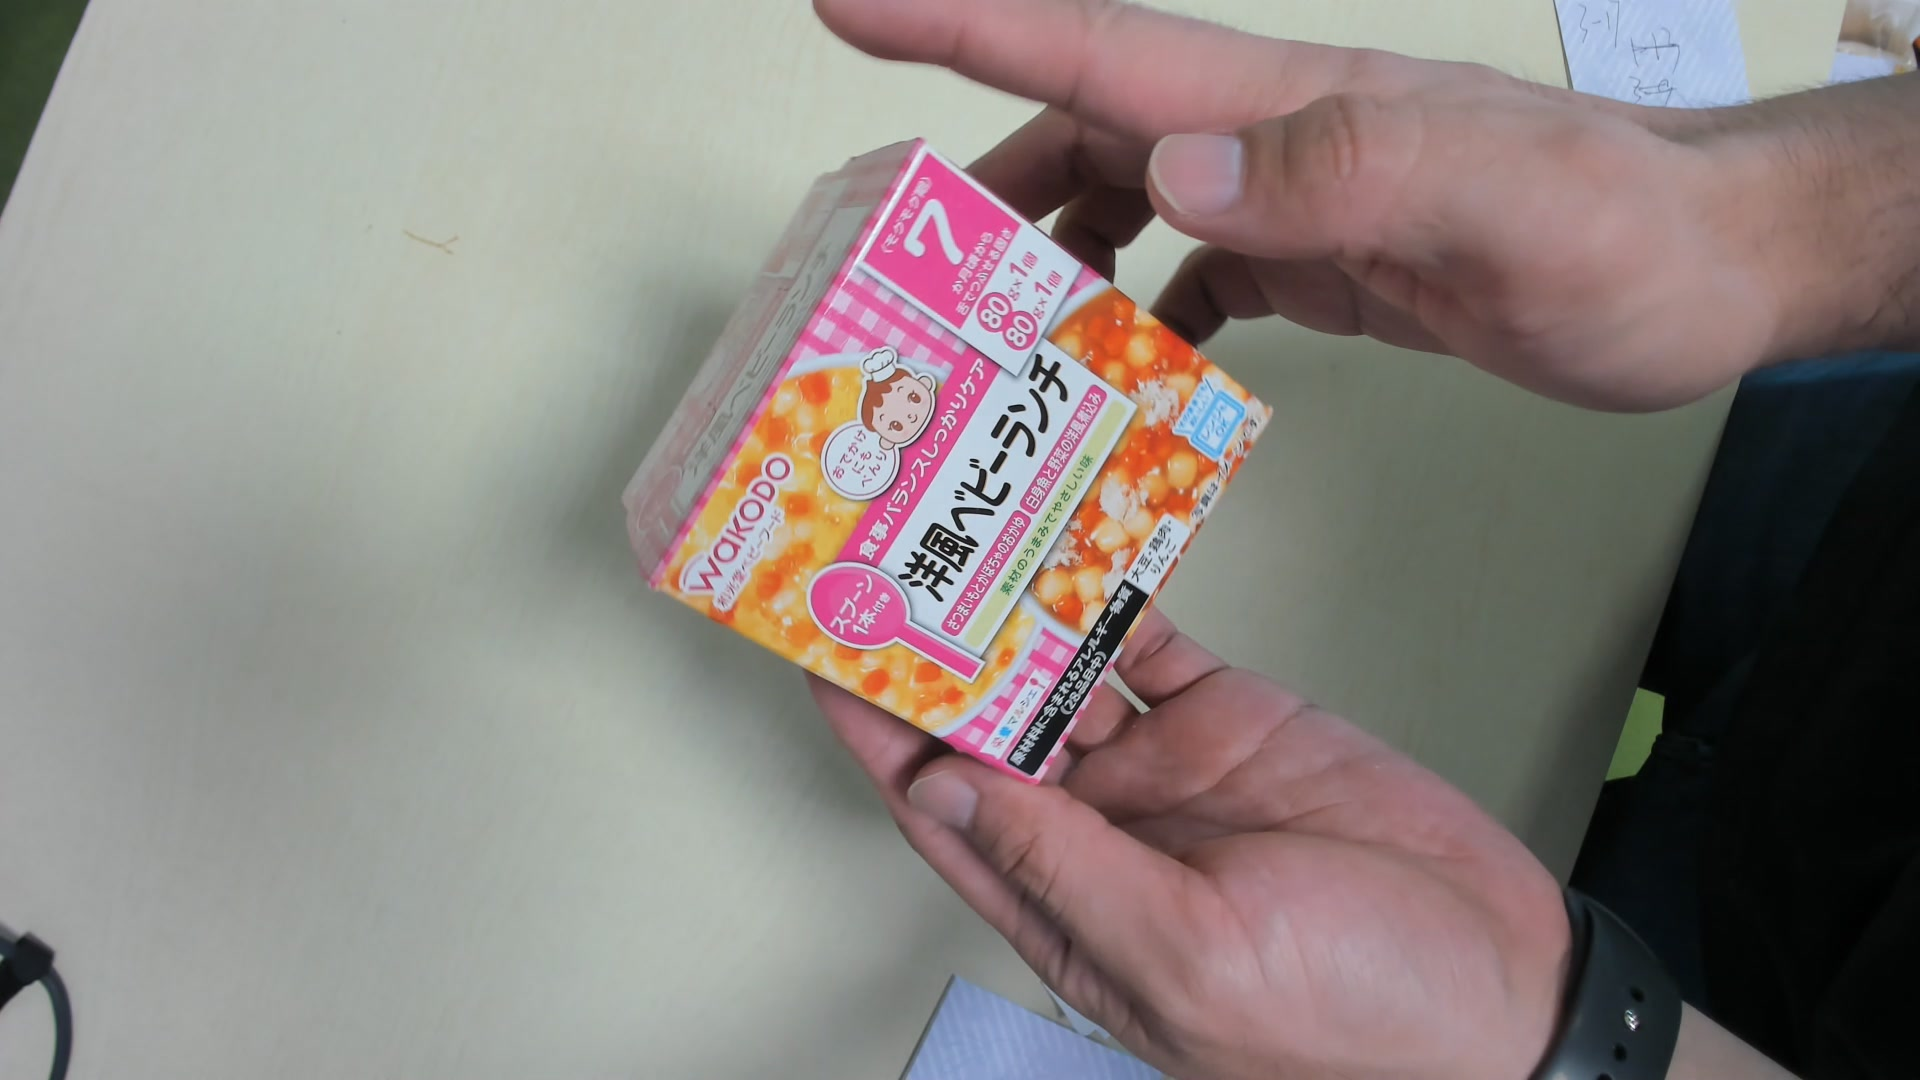InstantMeals_0-99g_NonHalal_NonHealthy: (622, 128, 1280, 793)
